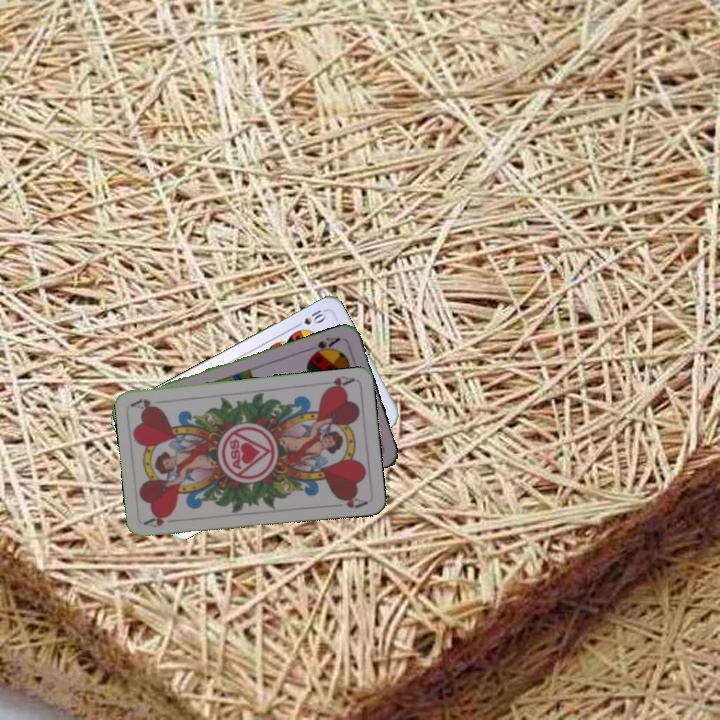HA: (317, 372, 357, 394), (141, 510, 174, 530)
S10: (290, 305, 329, 330)
SA: (307, 333, 343, 359)
